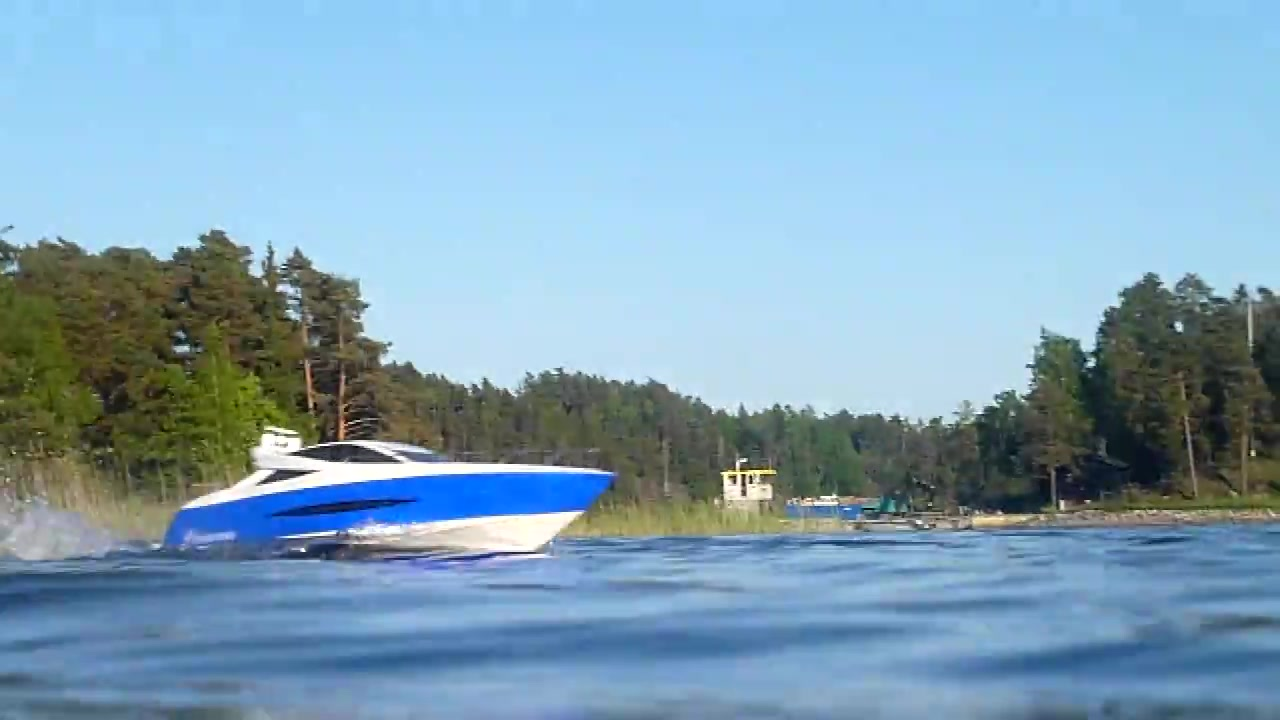boat: (162, 423, 623, 563)
